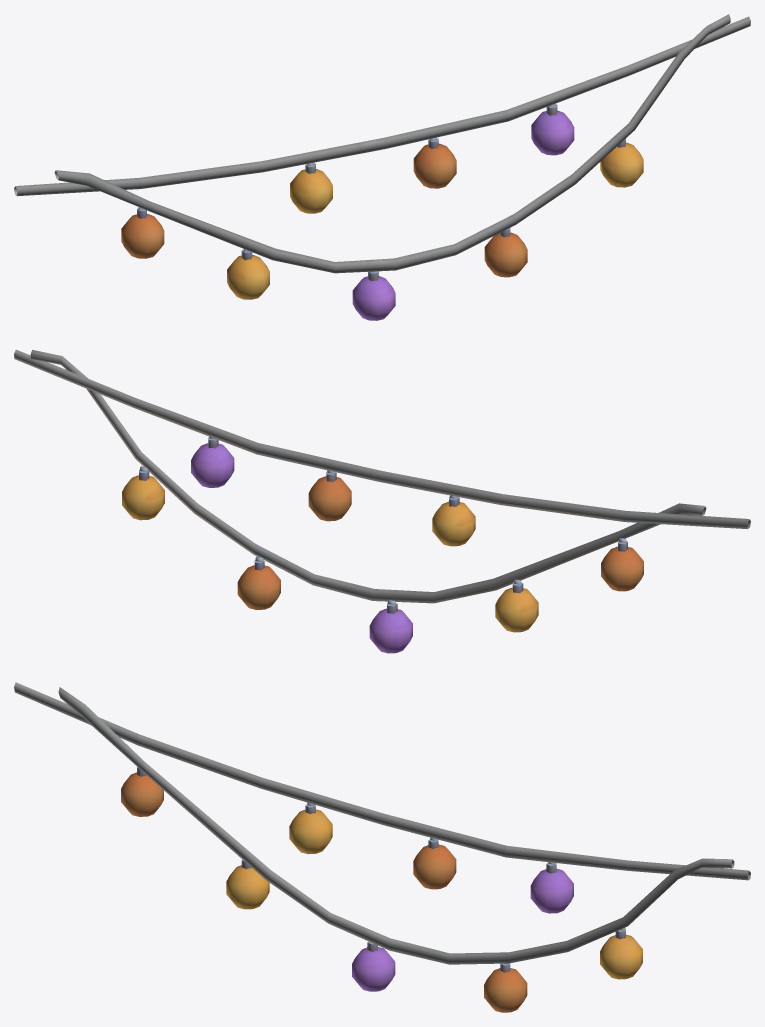
File: pref_sm_beach_WSJ_deng03_b_lv3.fbx
3 renders of one model, top to bottom at view 1: azimuth 30°, elevation 25°; view 2: azimuth 150°, elevation 25°; view 3: azimuth 330°, elevation 25°, orthographic.
Parts seen in each view (by area): view 1: pref_sm_beach_WSJ_deng03_b_lv3; view 2: pref_sm_beach_WSJ_deng03_b_lv3; view 3: pref_sm_beach_WSJ_deng03_b_lv3.
Boxes of the visible parts, box(x1,y1,x2,y2) form: pref_sm_beach_WSJ_deng03_b_lv3: box(14, 14, 750, 320); pref_sm_beach_WSJ_deng03_b_lv3: box(14, 349, 750, 653); pref_sm_beach_WSJ_deng03_b_lv3: box(14, 682, 750, 1012).
Bounding box in the file's own units: 4.71 × 1.38 × 0.2331.
